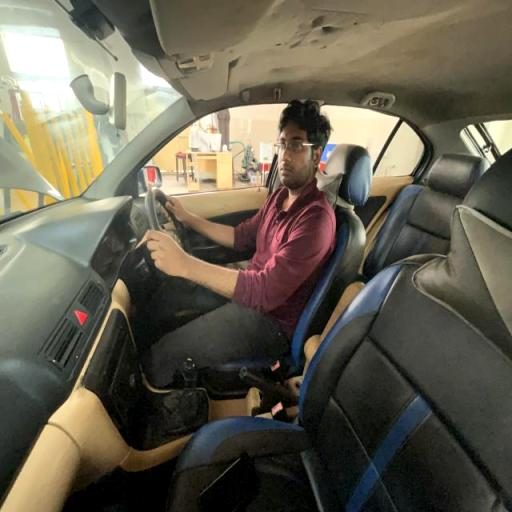Reaching_behind: (138, 98, 334, 381)
